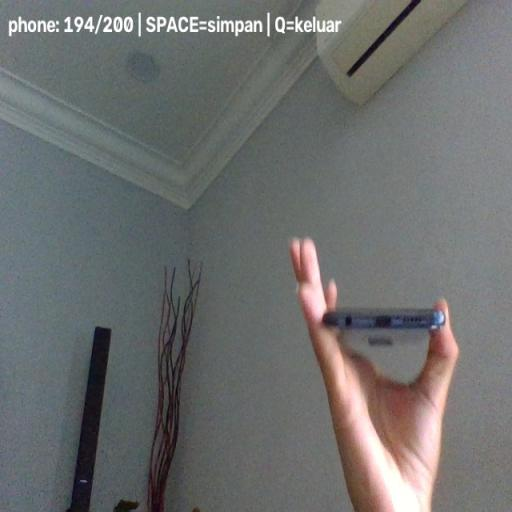Phone: (321, 306, 447, 333)
